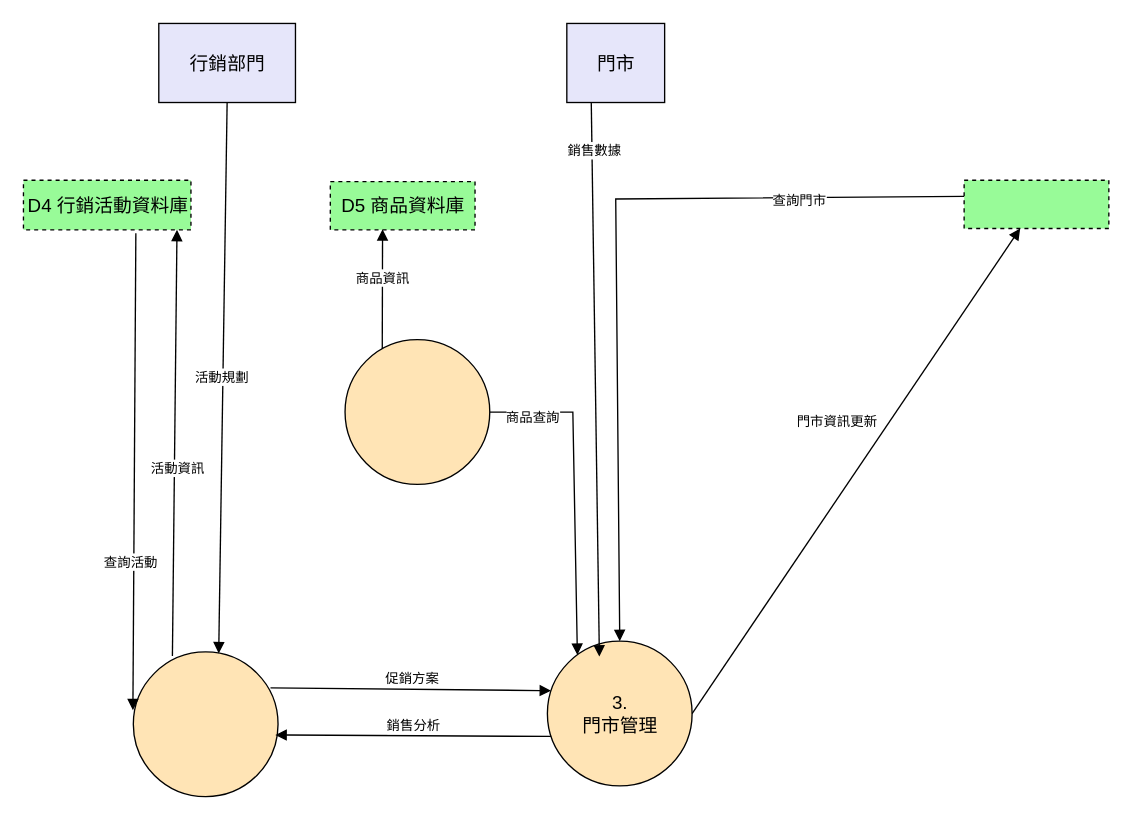
The diagram is 1132 pixels wide and 820 high, and some of its shapes have lost their labels. The box of each missing label's shape, as (x1, y1, x2, y2) in pixels:
4. 行銷活動: (132, 651, 278, 797)
5. 庫存管理: (344, 338, 490, 484)
D3 門市資料庫: (963, 179, 1109, 228)
